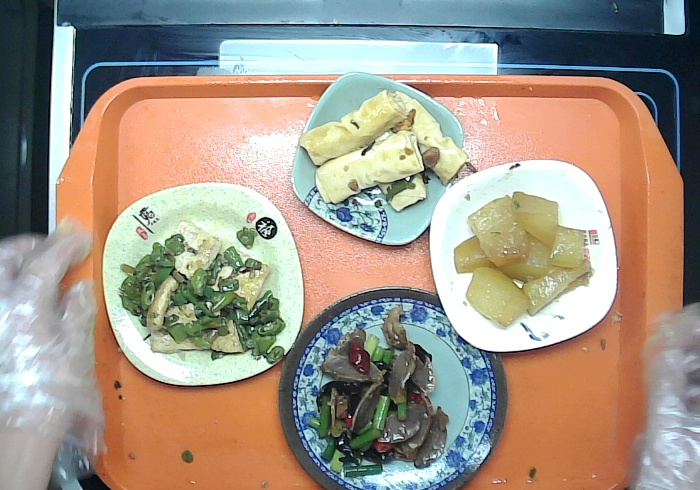NLDX-Bai_Se_Xiao_Fang_Die: (426, 154, 621, 356)
NLDX-Fu_Zi_Fang_Die: (98, 178, 308, 393)
NLDX-Qing_Hua_Xiao_Fang_Die: (288, 68, 468, 250)
NLDX-Qing_Hua_Yuan_Die: (274, 281, 510, 490)
